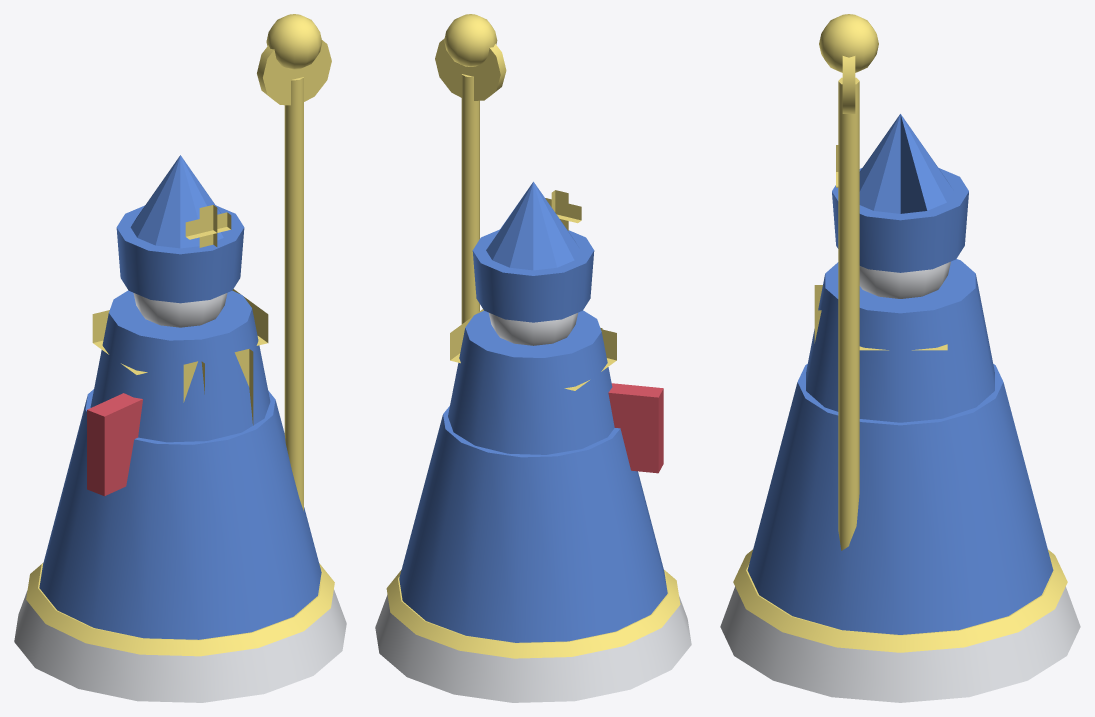
File: sorcerer.glb
3 renders of one model, left to right at view 1: azimuth 30°, elevation 25°; view 2: azimuth 150°, elevation 25°; view 3: azimuth 270°, elevation 25°, orthographic. The views are drawn at different scales.
Parts seen in each view (by area): view 1: sorcerer; view 2: sorcerer; view 3: sorcerer.
Boxes of the visible parts, <box> form: sorcerer: <box>14,14,346,702</box>; sorcerer: <box>375,14,691,702</box>; sorcerer: <box>720,14,1080,702</box>.
Bounding box in the file's own units: 0.84 × 1.69 × 0.84.
